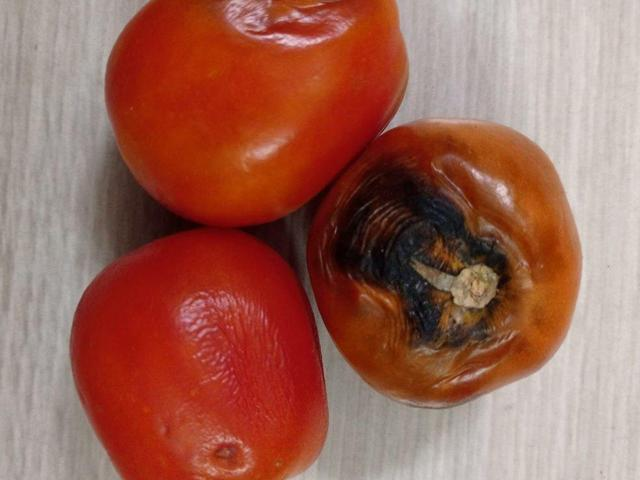defect: (306, 116, 587, 411)
